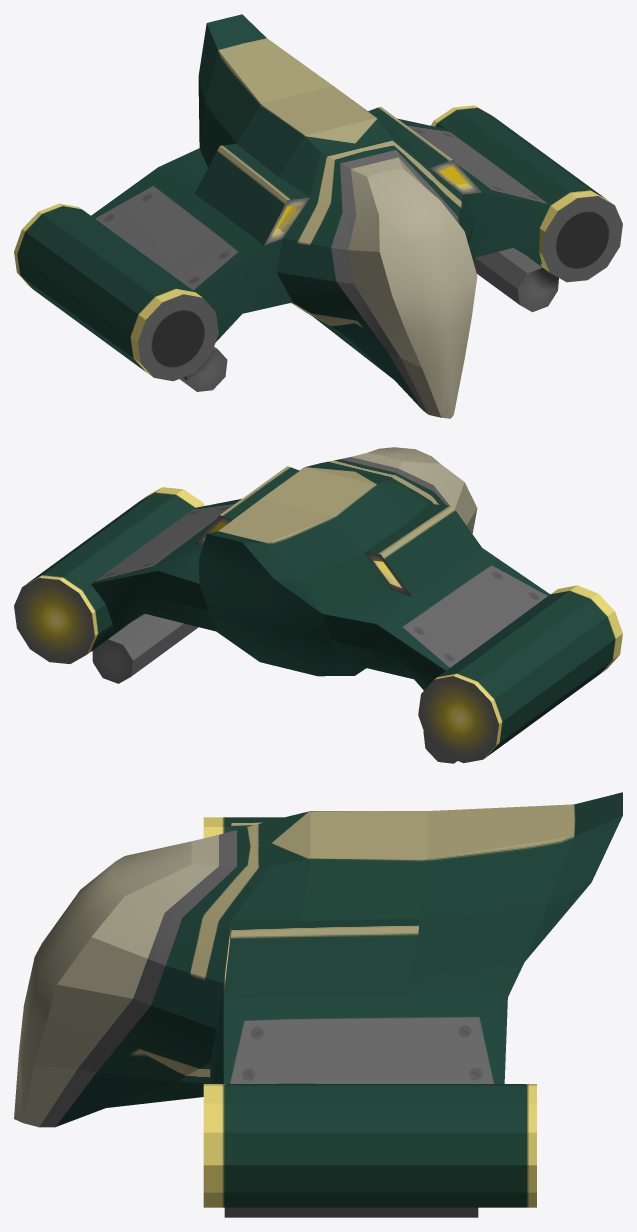
The model's file is Boss_Minigun.fbx.
3 views of the same model, one above another, from view 1: azimuth 30°, elevation 25°; view 2: azimuth 150°, elevation 25°; view 3: azimuth 270°, elevation 25° (orthographic). The views are drawn at different scales.
Parts seen in each view (by area): view 1: Boss_Minigun:Boss_Minigun1; view 2: Boss_Minigun:Boss_Minigun1; view 3: Boss_Minigun:Boss_Minigun1.
Boxes of the visible parts, left/top/right/bottom form: Boss_Minigun:Boss_Minigun1: left=14, top=14, right=622, bottom=418; Boss_Minigun:Boss_Minigun1: left=14, top=447, right=622, bottom=763; Boss_Minigun:Boss_Minigun1: left=14, top=792, right=622, bottom=1217.
Size of the model in its own units: 589 by 272 by 476.
